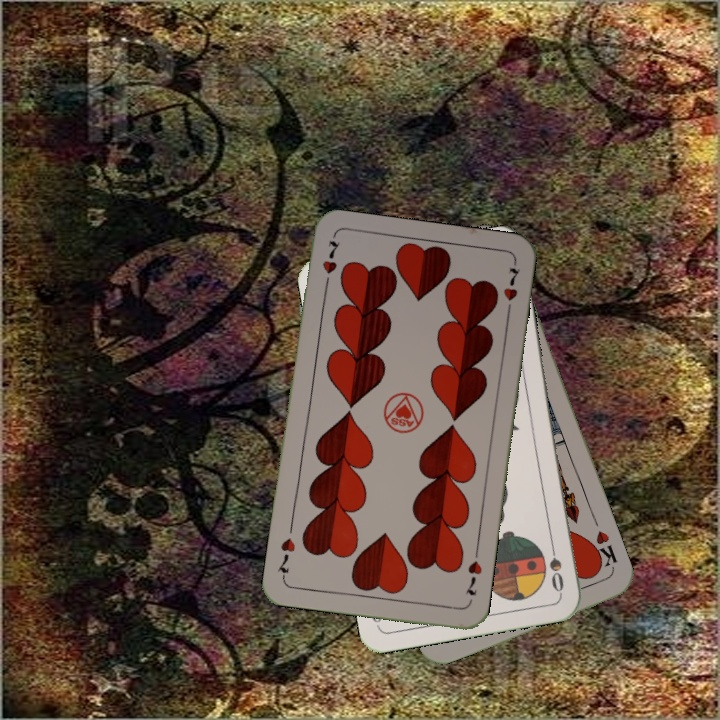H7: (318, 236, 342, 293), (461, 557, 485, 598)
HK: (585, 526, 620, 576)
SO: (545, 536, 567, 595)
